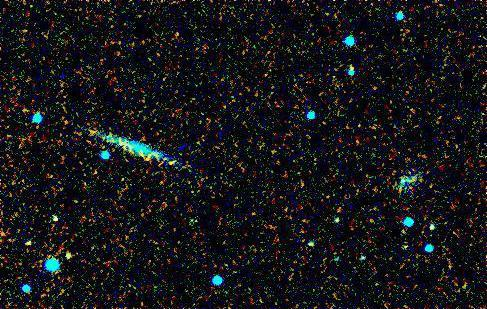star: (153, 146, 183, 176)
